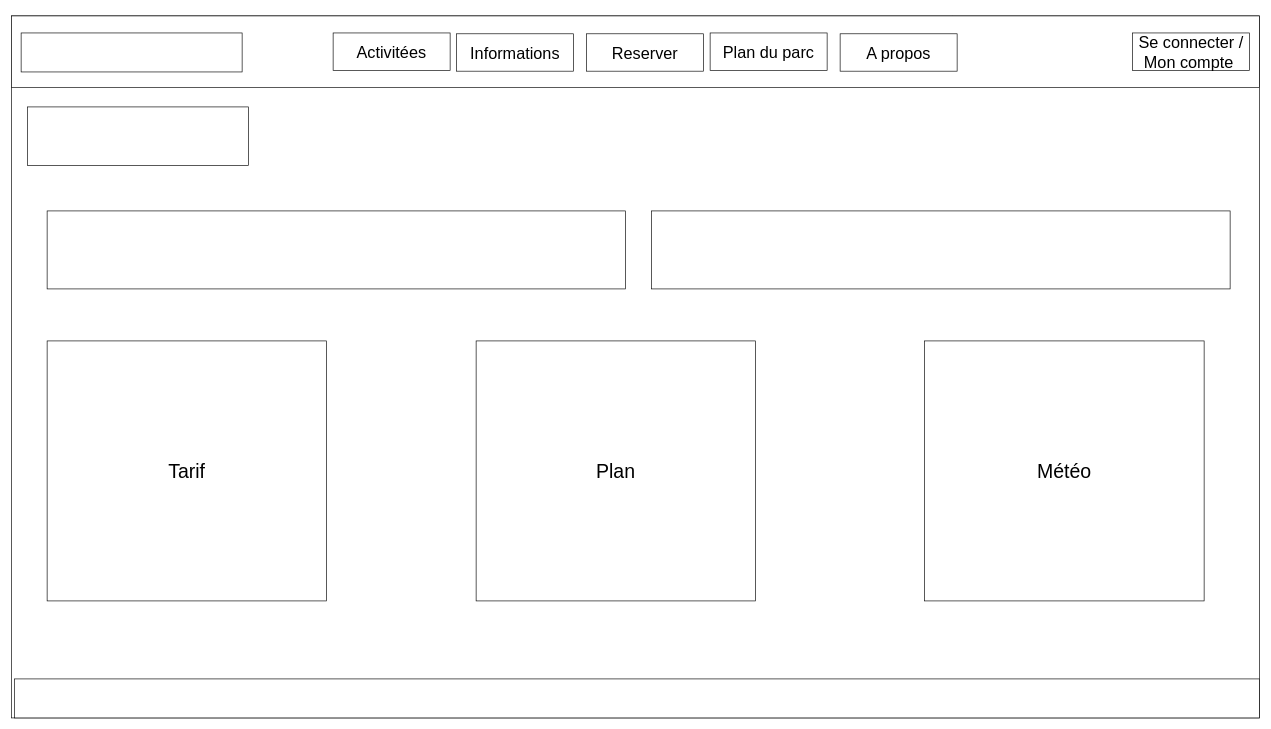
This 1271x729 diagram has some shape labels left out. Each missing label, with the centre of its shape:
"Horaire basse saisons" goes at (x=336, y=249).
"Horaire haute saisons" goes at (x=940, y=249).
"Informations légales / Contact / Reseaux sociaux / Lien utile" goes at (x=636, y=698).
"Informations utiles" goes at (x=138, y=135).
"Titre du parc" goes at (x=131, y=52).
